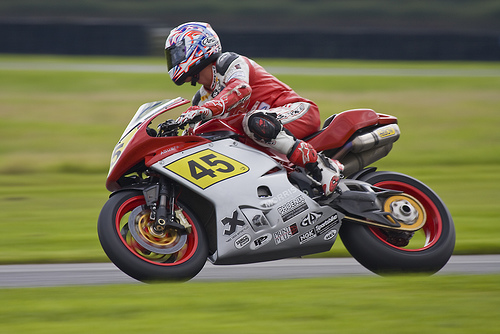helmet: (157, 20, 221, 69)
